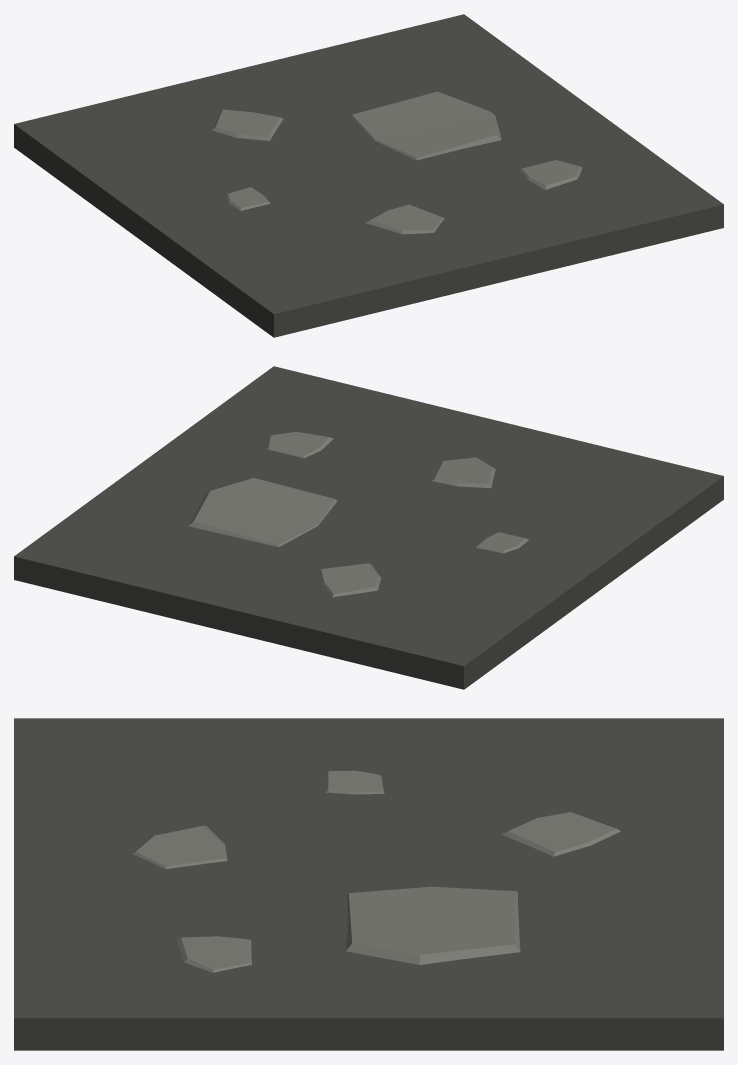
The model's file is floor_7.glb.
3 views of the same model, one above another, from view 1: azimuth 30°, elevation 25°; view 2: azimuth 150°, elevation 25°; view 3: azimuth 270°, elevation 25° (orthographic). The views are drawn at different scales.
Visible parts, largest first — view 1: Floor_7; view 2: Floor_7; view 3: Floor_7.
Boxes of the visible parts, box(x1,y1,x2,y2) form: Floor_7: box(14, 14, 723, 337); Floor_7: box(14, 366, 723, 689); Floor_7: box(14, 718, 723, 1050).
Size of the model in its own units: 2 by 0.1207 by 2.
1 material, 1 textured.
